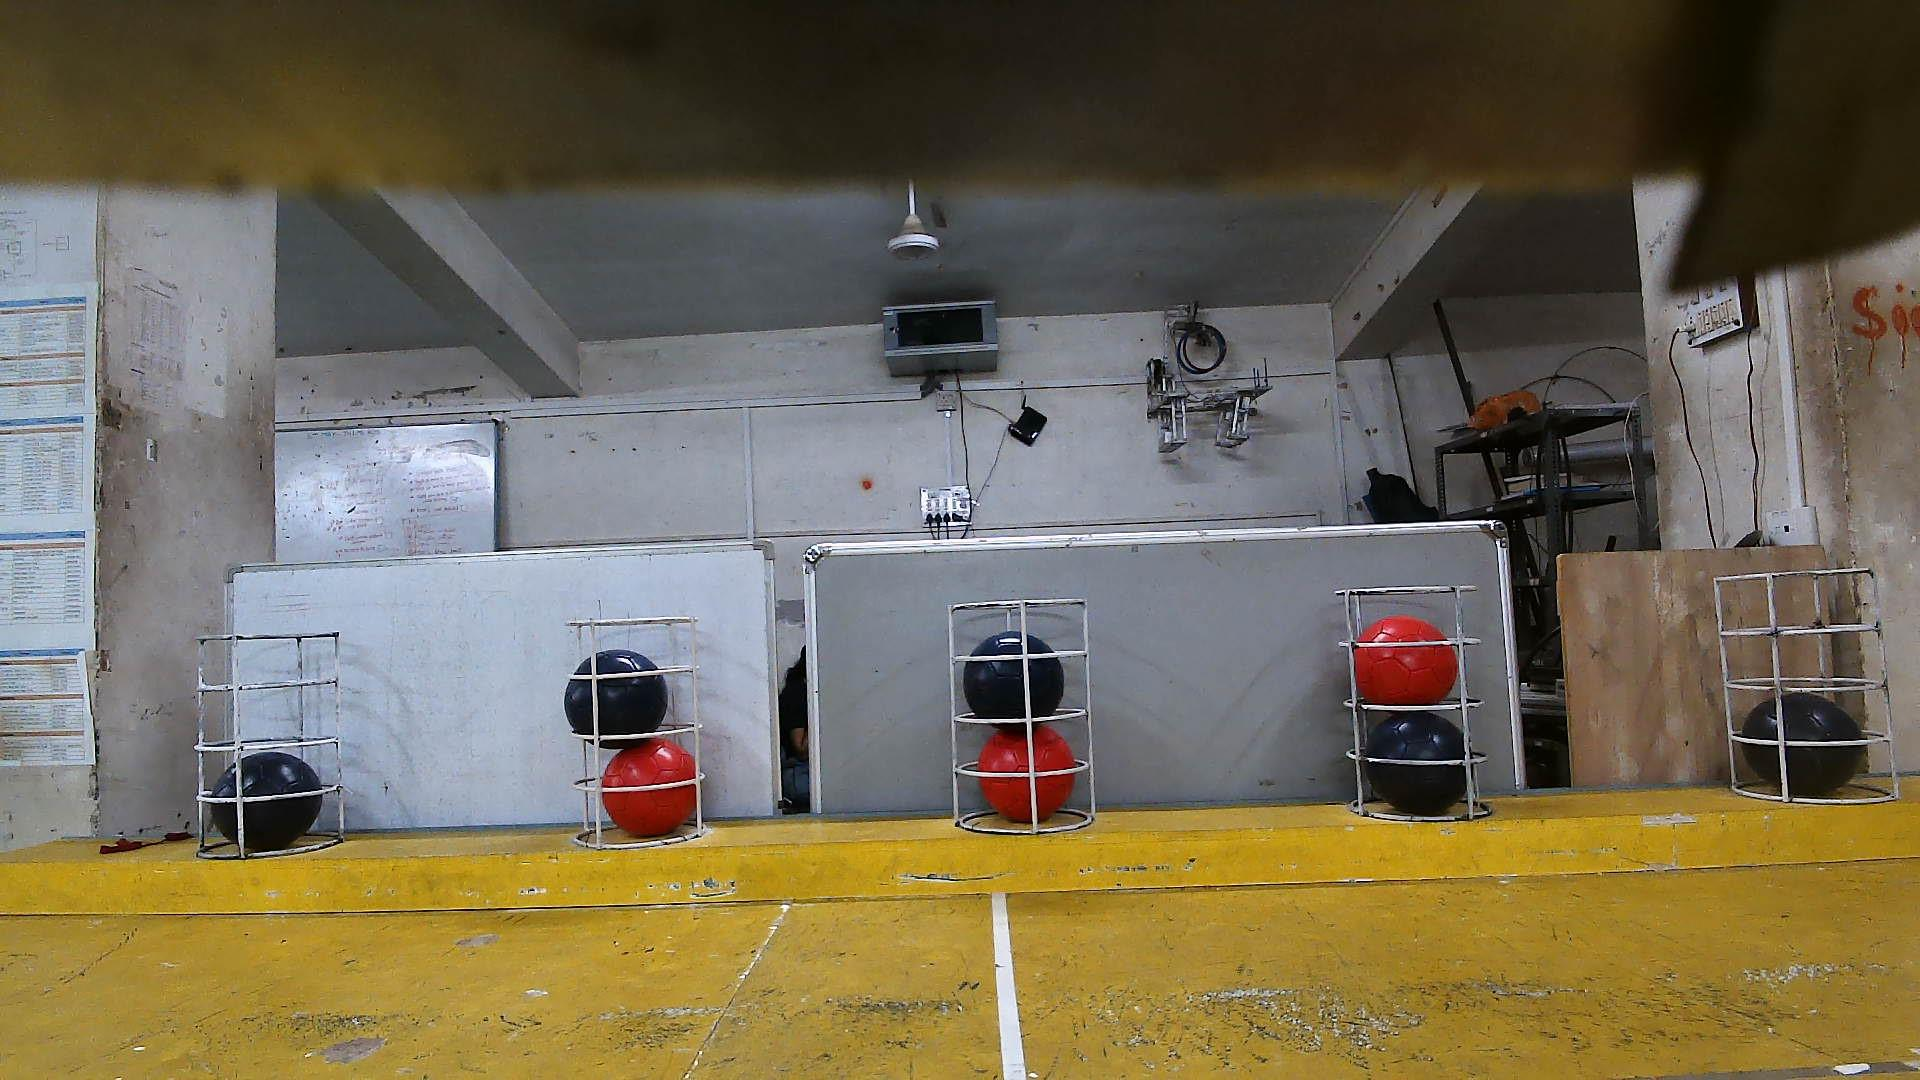dhoka: (1735, 694, 1859, 799), (210, 753, 326, 853), (562, 655, 674, 750), (1367, 709, 1468, 814), (964, 634, 1065, 731)
laale: (1354, 616, 1456, 709), (604, 737, 698, 837), (978, 728, 1076, 822)
